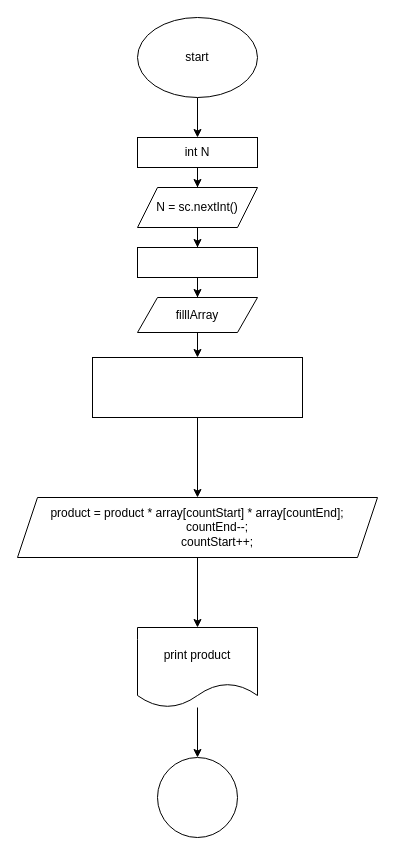
Some shapes in this 395 by 855 pixel diagram are drawn without their labels. The shapes that lost their labels are listed below. From the top down, each one's centre as x and y in pixels, then its label:
At pixel 197 262: "int [] array".
At pixel 197 387: "int product = 1; int countStart = 0; int countEnd = array.length - 1;".
At pixel 197 797: "end".
